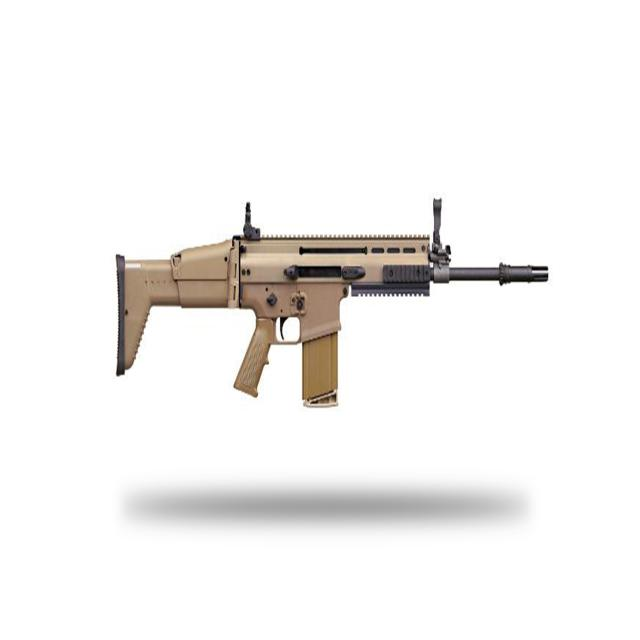Gun: (109, 184, 553, 432)
